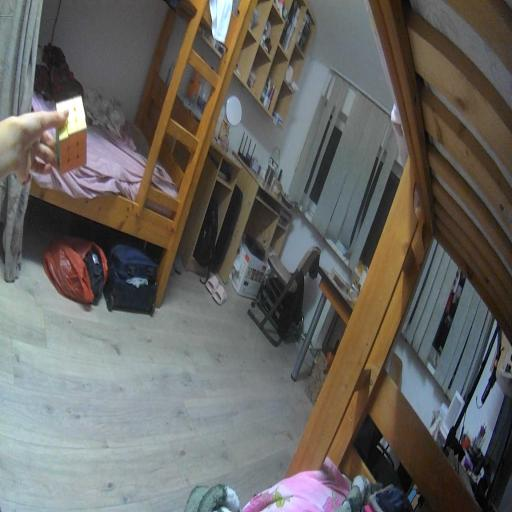Rubiks Cube: (53, 93, 88, 176)
